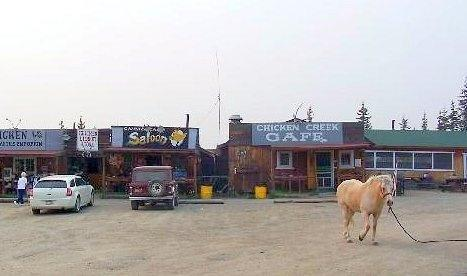car: (28, 176, 96, 212), (130, 166, 179, 211)
